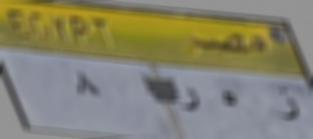8: (66, 70, 103, 98)
haa: (215, 86, 246, 112)
raa: (182, 83, 205, 117)
zay: (270, 82, 304, 124)
